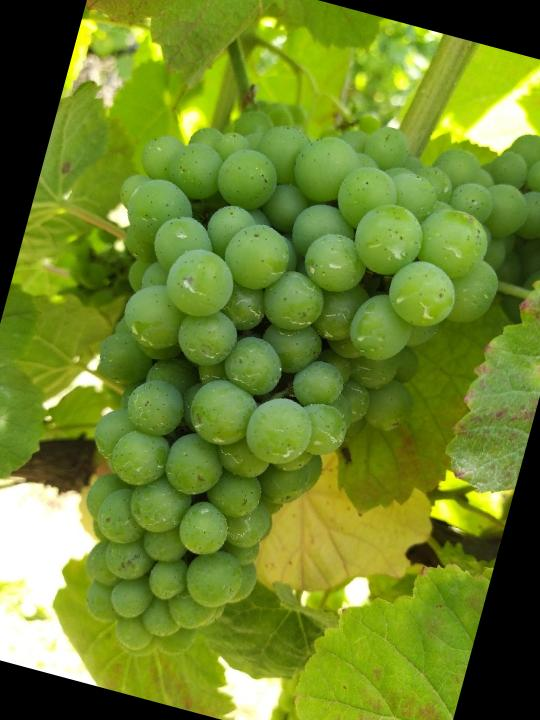grape: (0, 75, 531, 720)
